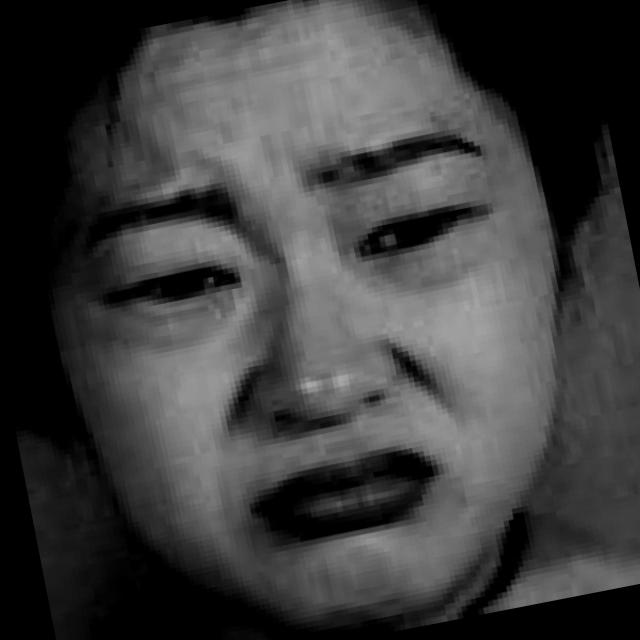disgust: (18, 2, 605, 640)
